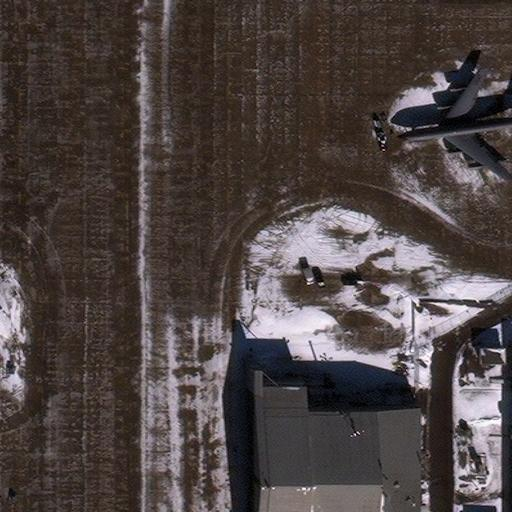Military Transport: (399, 70, 512, 184)
